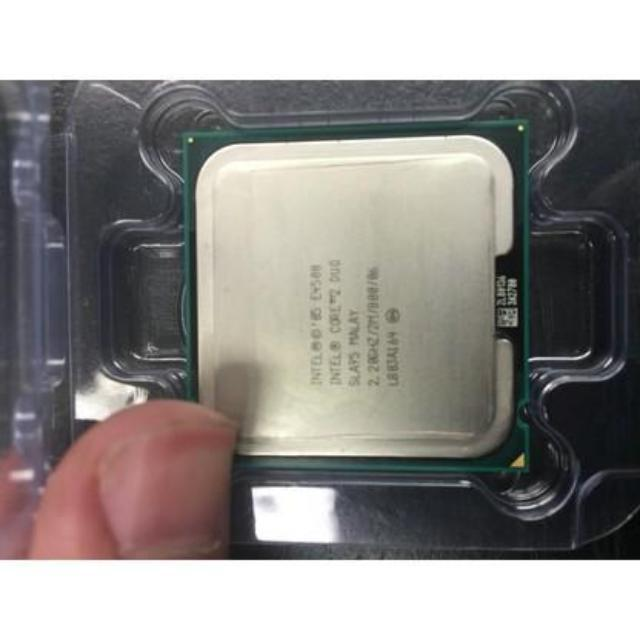CPU: (188, 135, 522, 460)
